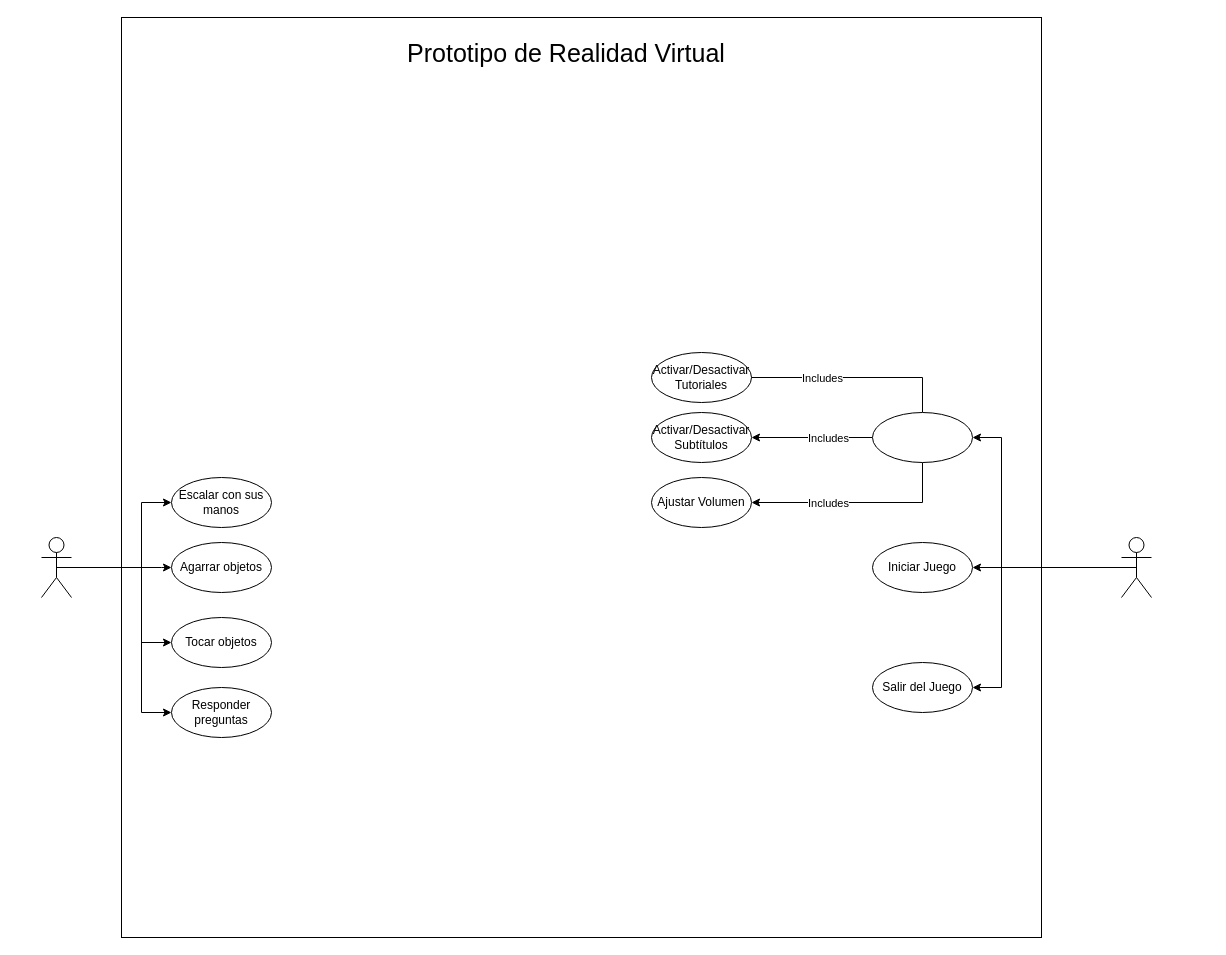
This 1226x955 diagram has some shape labels left out. The shapes that lost their labels are listed below. From the top down, each one's centre as x and y in pixels, then its label:
(922,437): Configurar Juego
(56,567): Jugador (Niño)
(1136,567): Administrador (Profesional)
